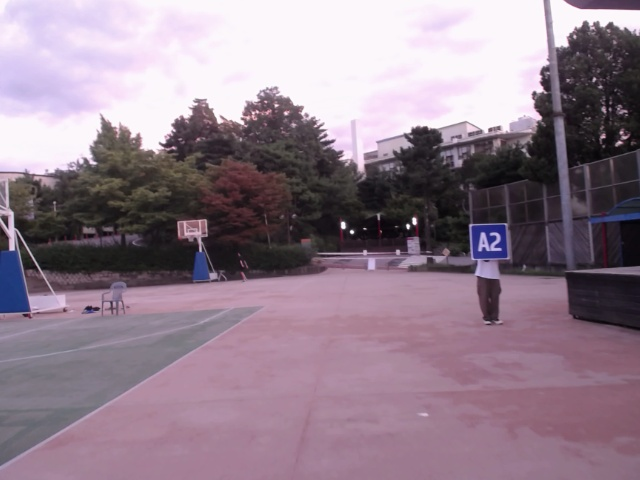delivery_a2: (470, 223, 509, 260)
